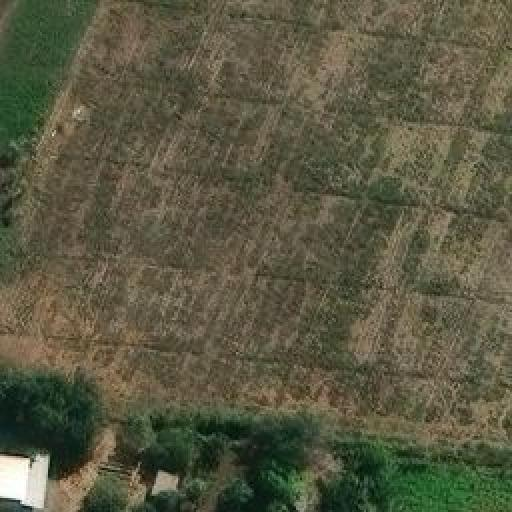manzanas: (1, 435, 195, 510)
